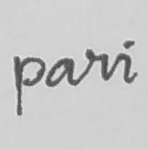a: (44, 55, 76, 89)
i: (114, 37, 139, 86)
p: (10, 51, 47, 119)
r: (79, 46, 111, 84)
